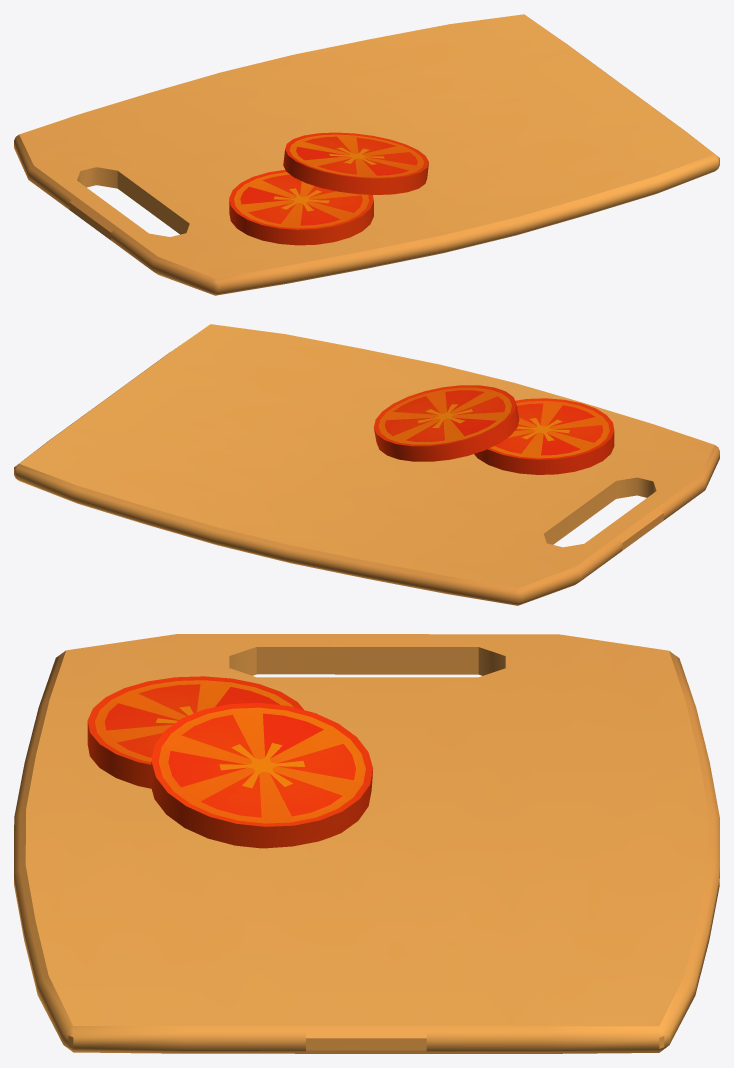
The model's file is Board.fbx.
The picture shows the model from 3 angles, top to bottom: view 1: azimuth 30°, elevation 25°; view 2: azimuth 150°, elevation 25°; view 3: azimuth 270°, elevation 25°; orthographic projection. The views are drawn at different scales.
Visible parts, largest first — view 1: Board; view 2: Board; view 3: Board.
Boxes of the visible parts, left/top/right/bottom form: Board: left=14, top=14, right=719, bottom=295; Board: left=14, top=324, right=719, bottom=605; Board: left=14, top=634, right=719, bottom=1053.
Bounding box in the file's own units: 1530 × 148 × 1140.
